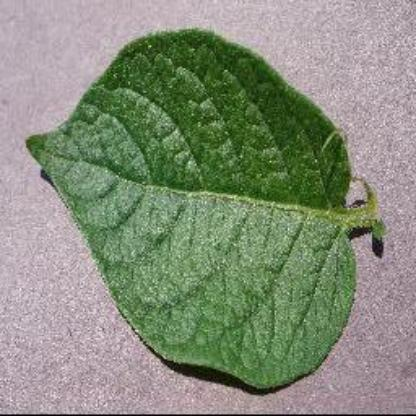Healthy-plant: (26, 26, 380, 392)
